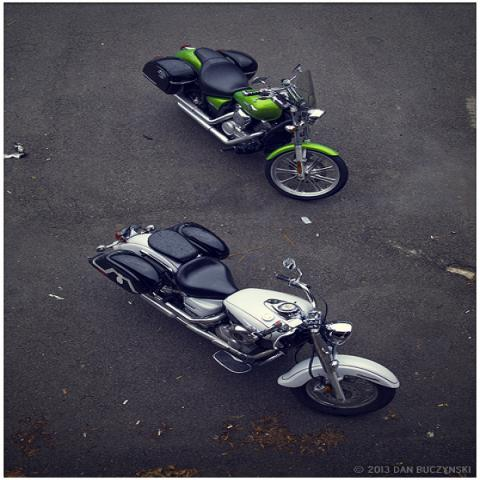motorcycle: (89, 222, 401, 420), (143, 45, 351, 199)
